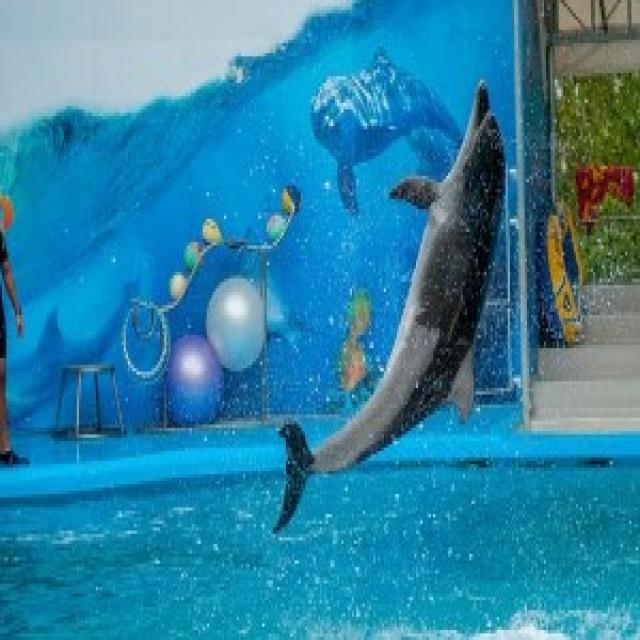Dolphin: (264, 75, 519, 542)
